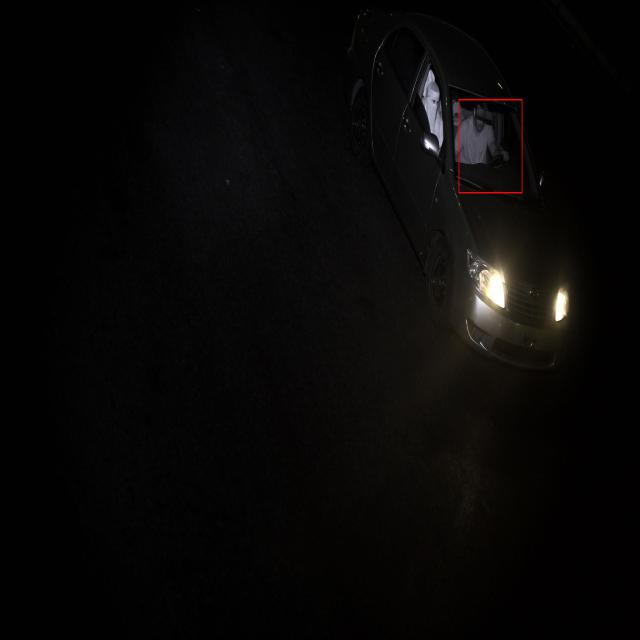windshield: (447, 81, 541, 201)
